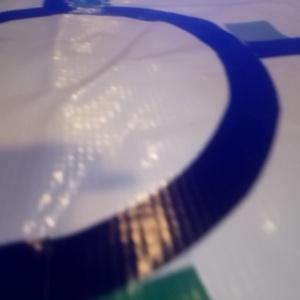top_right: (218, 21, 290, 56)
